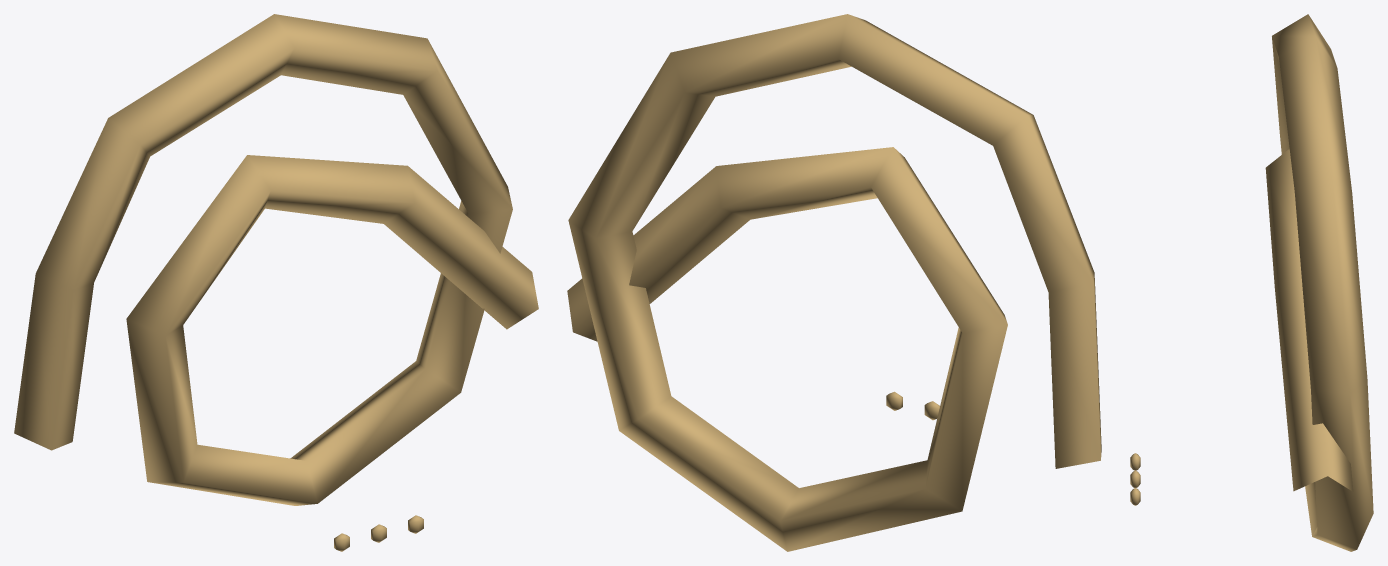
3 renders of one model, left to right at view 1: azimuth 30°, elevation 25°; view 2: azimuth 150°, elevation 25°; view 3: azimuth 270°, elevation 25°, orthographic. The views are drawn at different scales.
Parts seen in each view (by area): view 1: g_s74; view 2: g_s74; view 3: g_s74.
Boxes of the visible parts, x1,y1,x2,y2 form: g_s74: (14, 14, 538, 551); g_s74: (567, 14, 1101, 551); g_s74: (1130, 14, 1373, 551).
Bounding box in the file's own units: 0.4894 × 0.4665 × 0.207.
